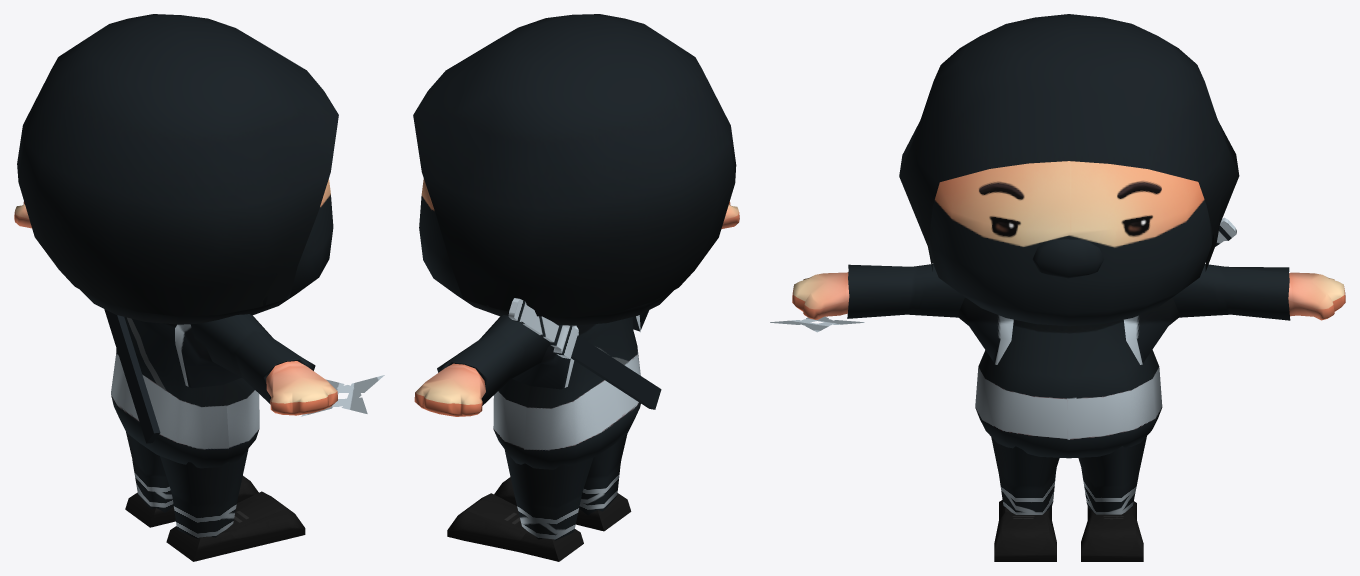
The model's file is Char_GC_Ninja.fbx.
3 views of the same model, side by side, from view 1: azimuth 30°, elevation 25°; view 2: azimuth 150°, elevation 25°; view 3: azimuth 270°, elevation 25° (orthographic).
Visible parts, largest first — view 1: Headbadge_Ninja, Body_Ninja, R_Leg_Ninja, R_Arm_Ninja, Head_Ninja, L_Leg_Ninja, Sword_Ninja, R_Shoulder_Ninja, Shuriken_Ninja; view 2: Headbadge_Ninja, Body_Ninja, L_Leg_Ninja, L_Arm_Ninja, Sword_Ninja, R_Leg_Ninja, Head_Ninja, L_Shoulder_Ninja; view 3: Headbadge_Ninja, Head_Ninja, Body_Ninja, R_Arm_Ninja, L_Arm_Ninja, R_Leg_Ninja, L_Leg_Ninja, Nose_Ninja, R_Shoulder_Ninja, L_Shoulder_Ninja.
Part boxes in pixels (bbox=[...]): Headbadge_Ninja: bbox=[17, 14, 338, 316]; Body_Ninja: bbox=[111, 317, 259, 468]; R_Leg_Ninja: bbox=[160, 449, 305, 561]; R_Arm_Ninja: bbox=[190, 314, 337, 415]; Head_Ninja: bbox=[80, 179, 333, 324]; L_Leg_Ninja: bbox=[125, 432, 258, 527]; Sword_Ninja: bbox=[104, 309, 160, 443]; R_Shoulder_Ninja: bbox=[175, 324, 240, 388]; Shuriken_Ninja: bbox=[301, 375, 384, 416]; Headbadge_Ninja: bbox=[413, 14, 736, 317]; Body_Ninja: bbox=[493, 317, 640, 469]; L_Leg_Ninja: bbox=[447, 450, 593, 561]; L_Arm_Ninja: bbox=[414, 315, 550, 416]; Sword_Ninja: bbox=[508, 298, 661, 409]; R_Leg_Ninja: bbox=[494, 434, 631, 531]; Head_Ninja: bbox=[419, 178, 673, 325]; L_Shoulder_Ninja: bbox=[512, 325, 578, 389]; Headbadge_Ninja: bbox=[899, 14, 1239, 271]; Head_Ninja: bbox=[928, 161, 1212, 326]; Body_Ninja: bbox=[975, 319, 1162, 458]; R_Arm_Ninja: bbox=[792, 264, 965, 319]; L_Arm_Ninja: bbox=[1172, 264, 1345, 320]; R_Leg_Ninja: bbox=[991, 437, 1059, 561]; L_Leg_Ninja: bbox=[1078, 436, 1146, 561]; Nose_Ninja: bbox=[1032, 239, 1104, 278]; R_Shoulder_Ninja: bbox=[957, 298, 1013, 364]; L_Shoulder_Ninja: bbox=[1124, 298, 1180, 364].
Bounding box in the file's own units: 4.43 × 7.4 × 7.91.
2 materials, 2 textured.
